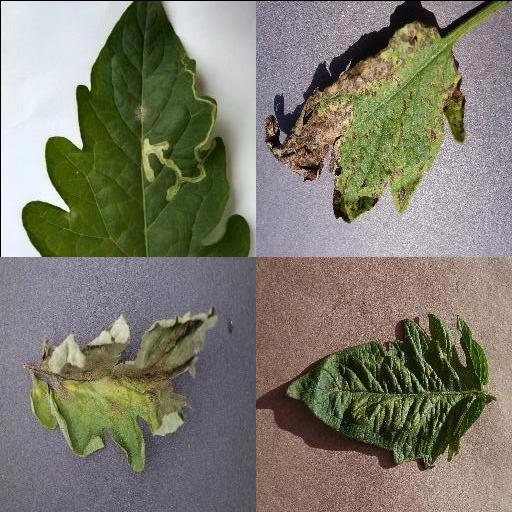Late Blight: (27, 305, 221, 471)
Leaf Miner: (20, 0, 249, 256)
Septoria: (263, 20, 465, 222)
Spider Mites: (283, 311, 489, 465)
